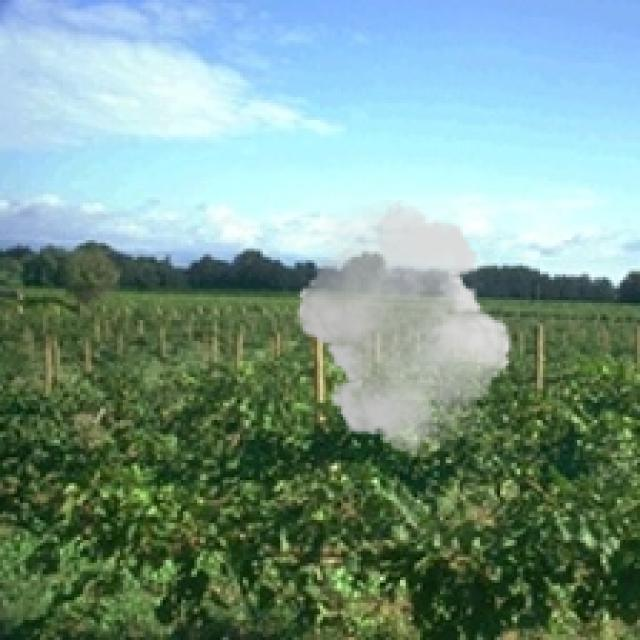smoke: (289, 200, 520, 457)
